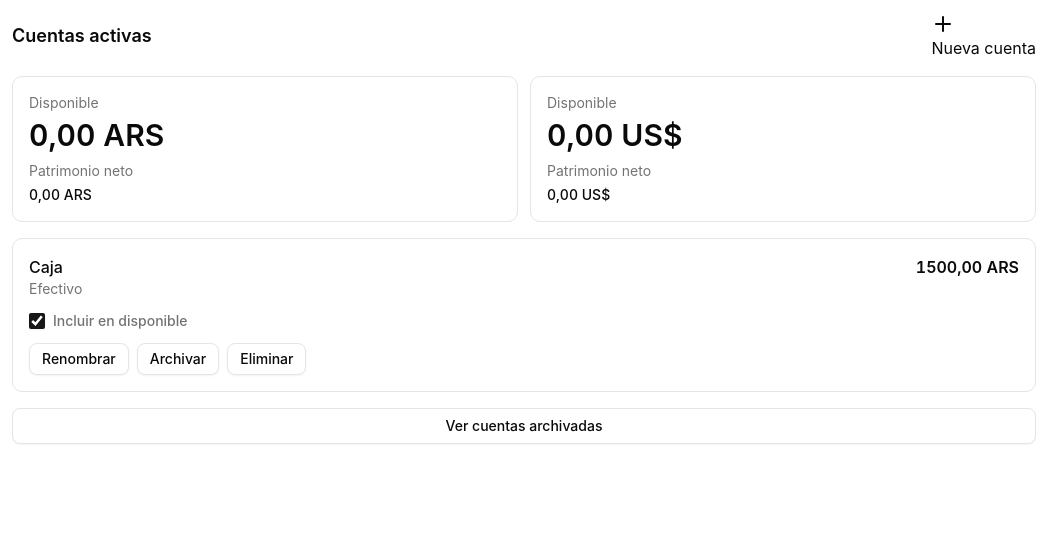
Test: AccountsContainer › does not send an empty new name
The width and height of the screenshot is (1048, 533).
Click the button "Renombrar": {"x": 79, "y": 359} [29,343,129,375]
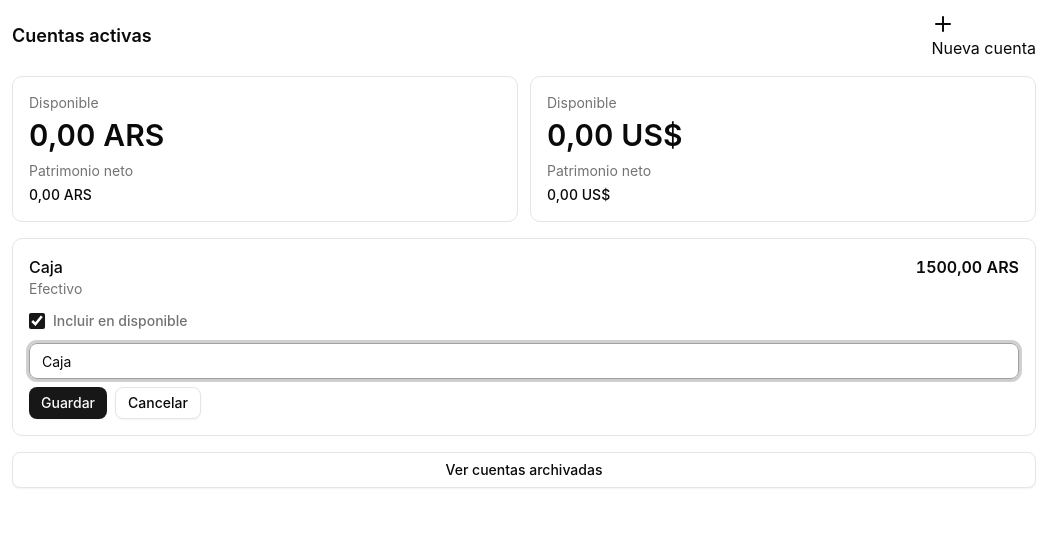
Clear the field named "Nuevo nombre de Caja": {"x": 524, "y": 361} [29,343,1019,379]
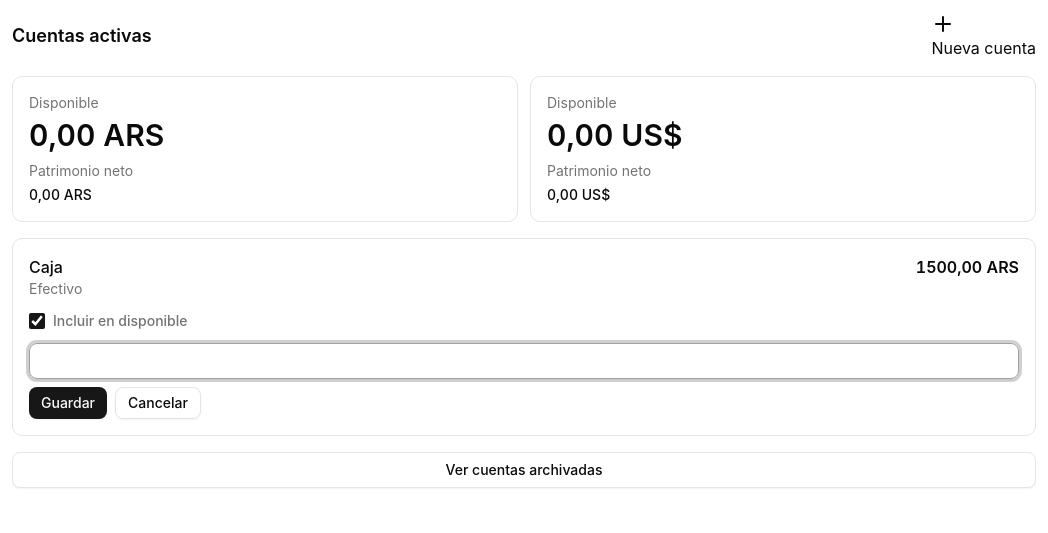
Click the button "Guardar": {"x": 68, "y": 403} [29,387,107,419]
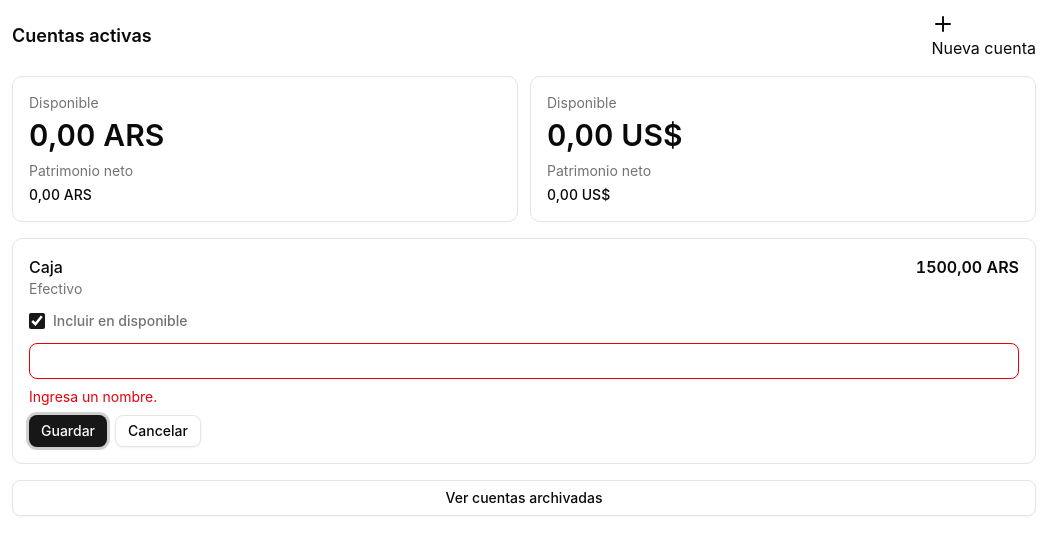
Result: the text "Ingresa un nombre." is shown at [29,388,157,405]
